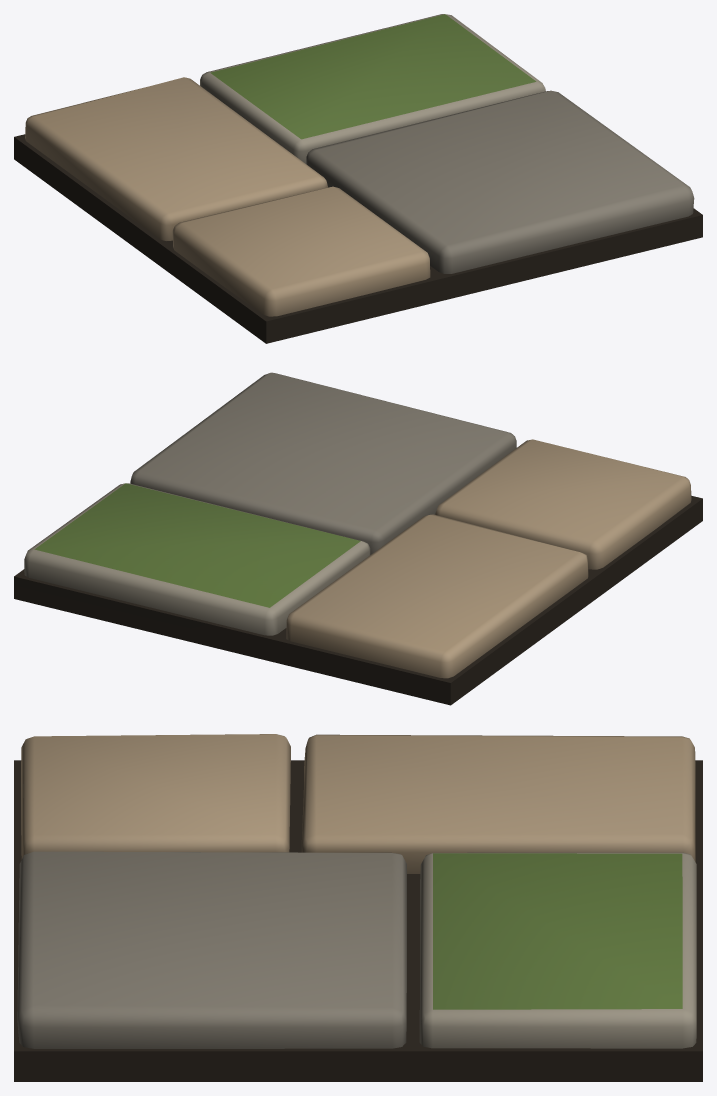
Rendered from kit_cap0.glb.
The picture shows the model from 3 angles, top to bottom: view 1: azimuth 30°, elevation 25°; view 2: azimuth 150°, elevation 25°; view 3: azimuth 270°, elevation 25°; orthographic projection. The views are drawn at different scales.
Parts seen in each view (by area): view 1: kit_cap0; view 2: kit_cap0; view 3: kit_cap0.
Part boxes in pixels (box(x1,y1,x2,y2)): kit_cap0: box(14, 14, 702, 343); kit_cap0: box(14, 372, 702, 705); kit_cap0: box(14, 734, 702, 1081).
Size of the model in its own units: 1.02 by 0.1117 by 1.02.
